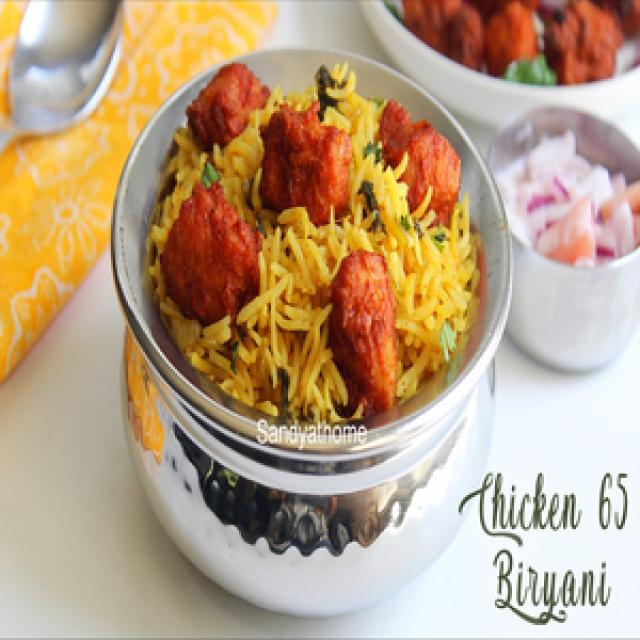chicken biriyani: (136, 41, 506, 446)
